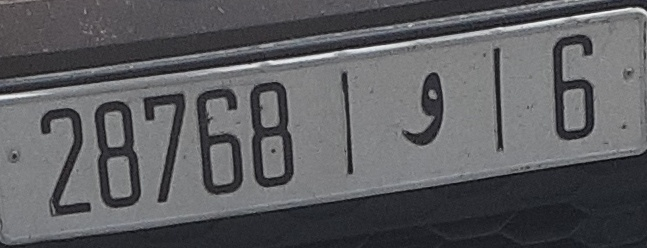2: (37, 106, 95, 218)
6: (192, 87, 244, 201), (548, 33, 600, 145)
7: (140, 92, 188, 206)
8: (92, 98, 144, 211), (246, 80, 297, 192)
waw: (397, 66, 449, 150)
